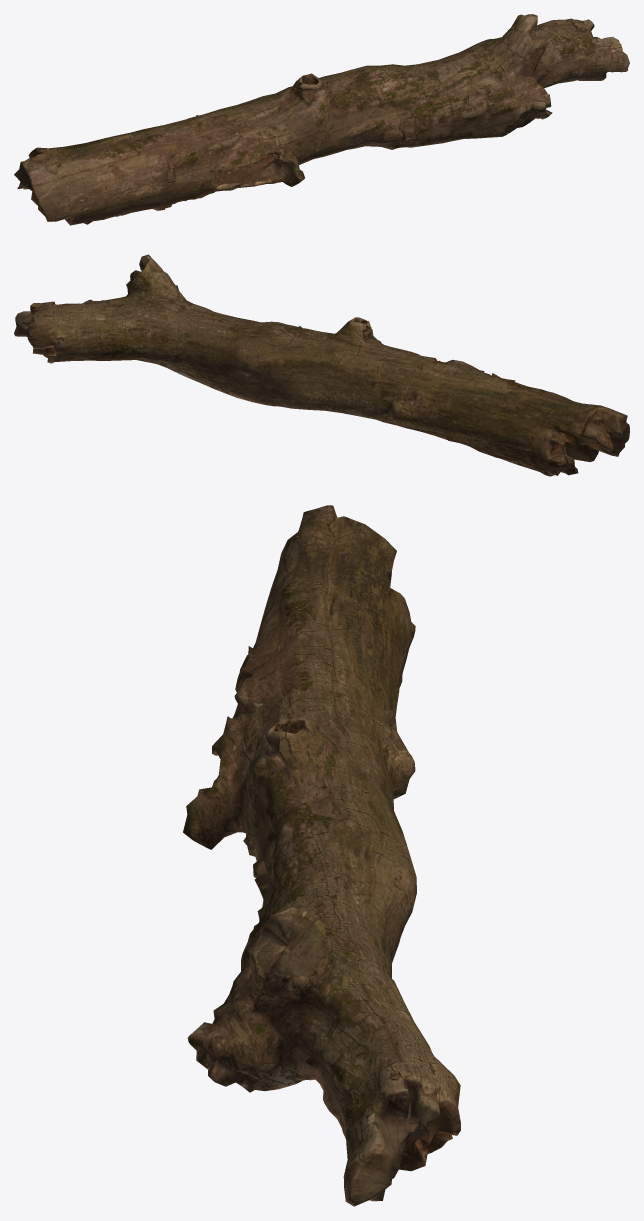
Rendered from OakTreeLog.fbx.
3 renders of one model, top to bottom at view 1: azimuth 30°, elevation 25°; view 2: azimuth 150°, elevation 25°; view 3: azimuth 270°, elevation 25°, orthographic. The views are drawn at different scales.
Parts seen in each view (by area): view 1: wd0oddjbw_LOD0_TIER2_000; view 2: wd0oddjbw_LOD0_TIER2_000; view 3: wd0oddjbw_LOD0_TIER2_000.
Boxes of the visible parts, x1,y1,x2,y2 form: wd0oddjbw_LOD0_TIER2_000: [14, 14, 629, 225]; wd0oddjbw_LOD0_TIER2_000: [14, 254, 629, 476]; wd0oddjbw_LOD0_TIER2_000: [183, 505, 460, 1206].
Bounding box in the file's own units: 43.71 × 7.45 × 8.77.
